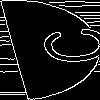C: (24, 25, 100, 68)
